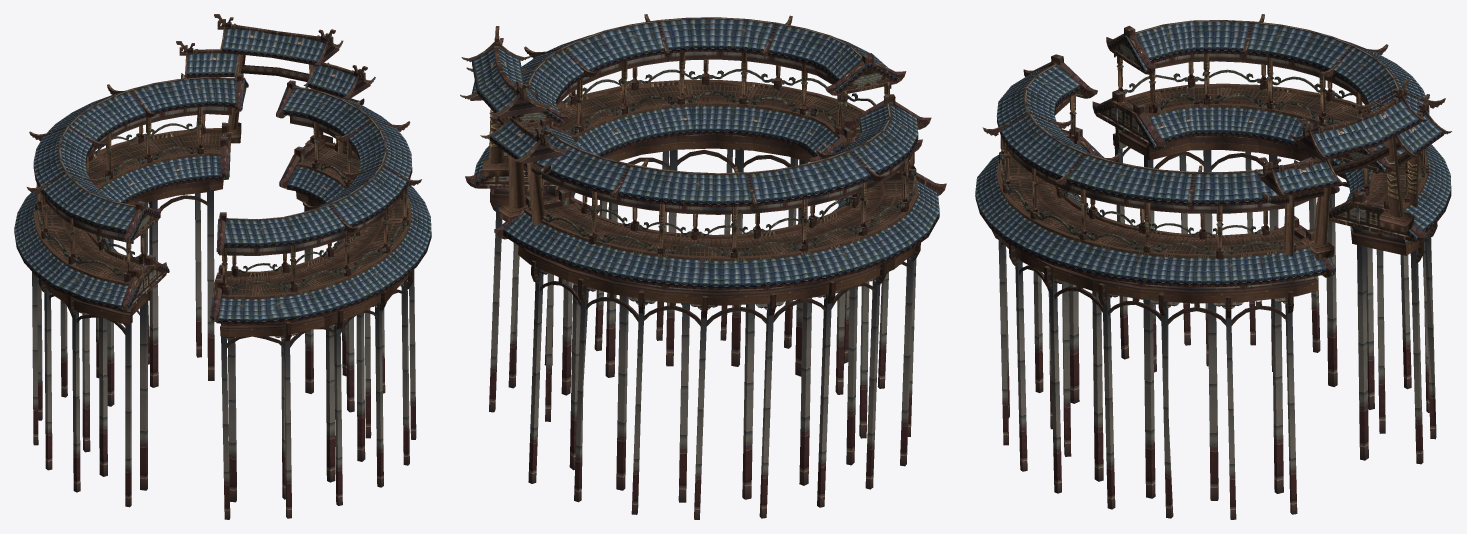
The model's file is S2_Build_XSC054_2.FBX.
3 renders of one model, left to right at view 1: azimuth 30°, elevation 25°; view 2: azimuth 150°, elevation 25°; view 3: azimuth 270°, elevation 25°, orthographic. The views are drawn at different scales.
Parts seen in each view (by area): view 1: S2_Build_XSC054_2; view 2: S2_Build_XSC054_2; view 3: S2_Build_XSC054_2.
Boxes of the visible parts, box(x1,y1,x2,y2) form: S2_Build_XSC054_2: box(14, 14, 431, 519); S2_Build_XSC054_2: box(460, 14, 946, 519); S2_Build_XSC054_2: box(975, 14, 1451, 519).
Bounding box in the file's own units: 4688 × 4287 × 4690.
